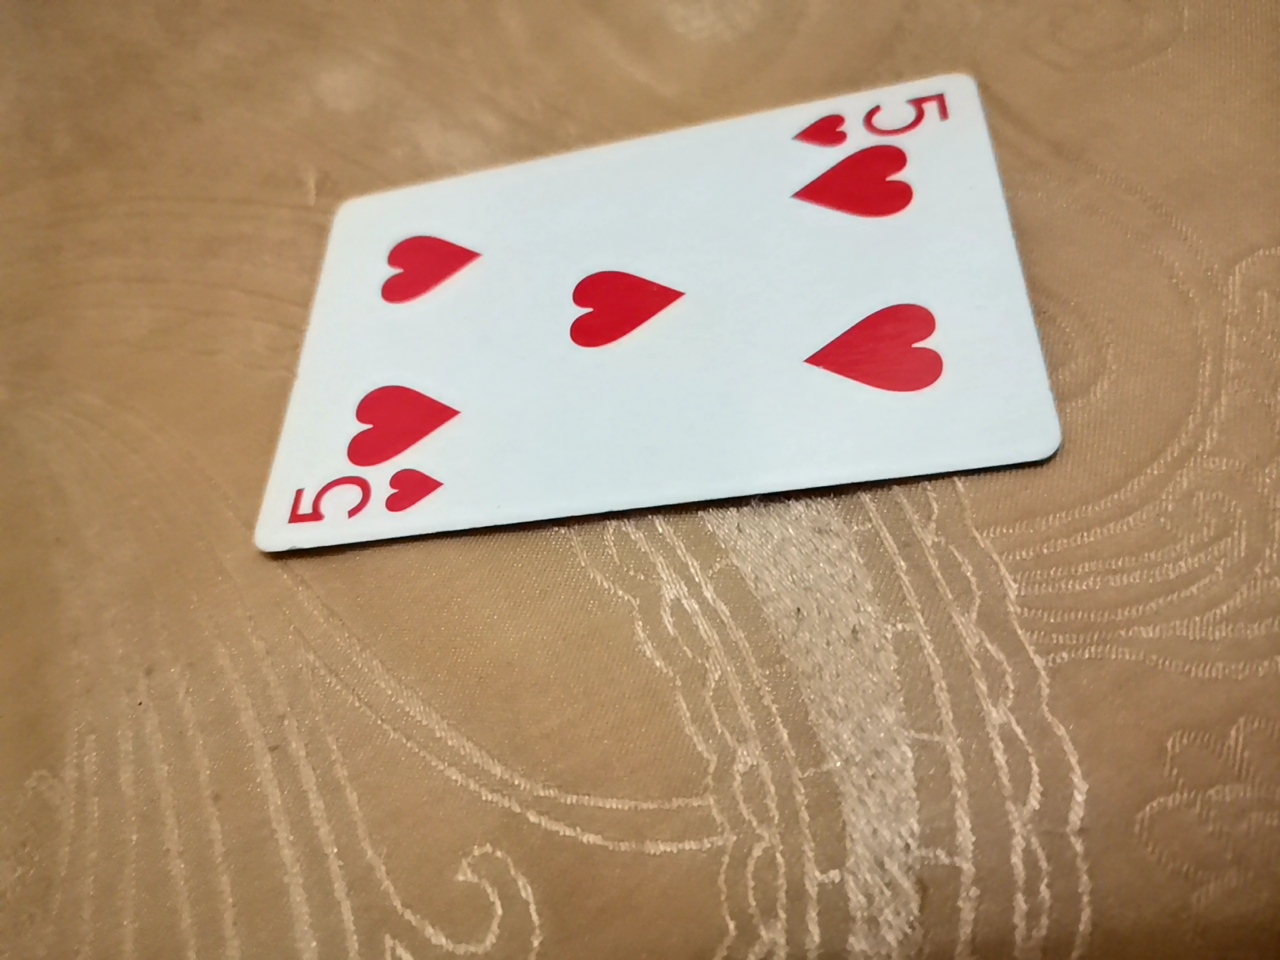hx 5: (232, 76, 1080, 571)
